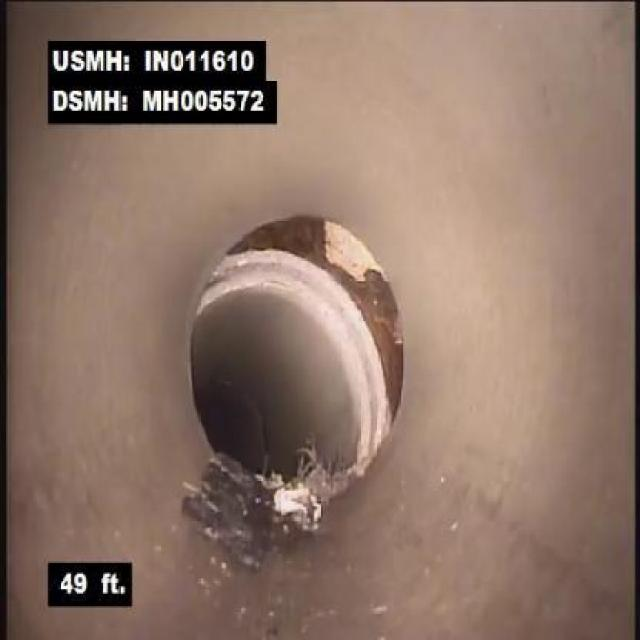Hole: (218, 211, 400, 295), (350, 298, 412, 491)
